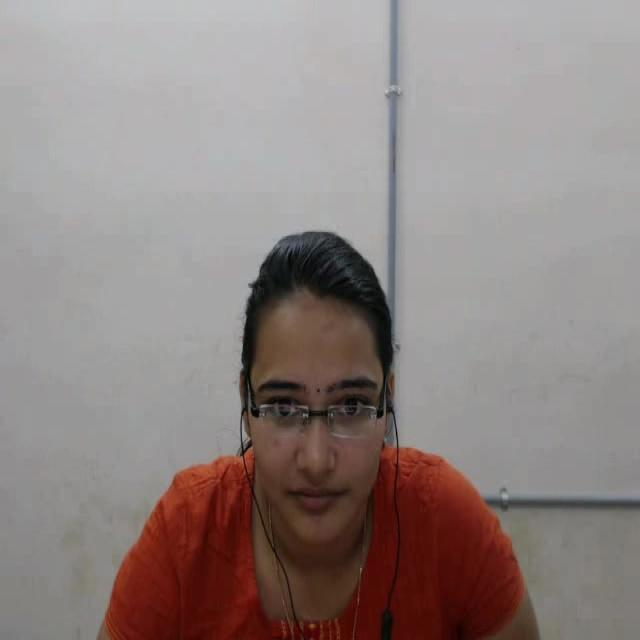Engaged: (203, 240, 443, 611)
